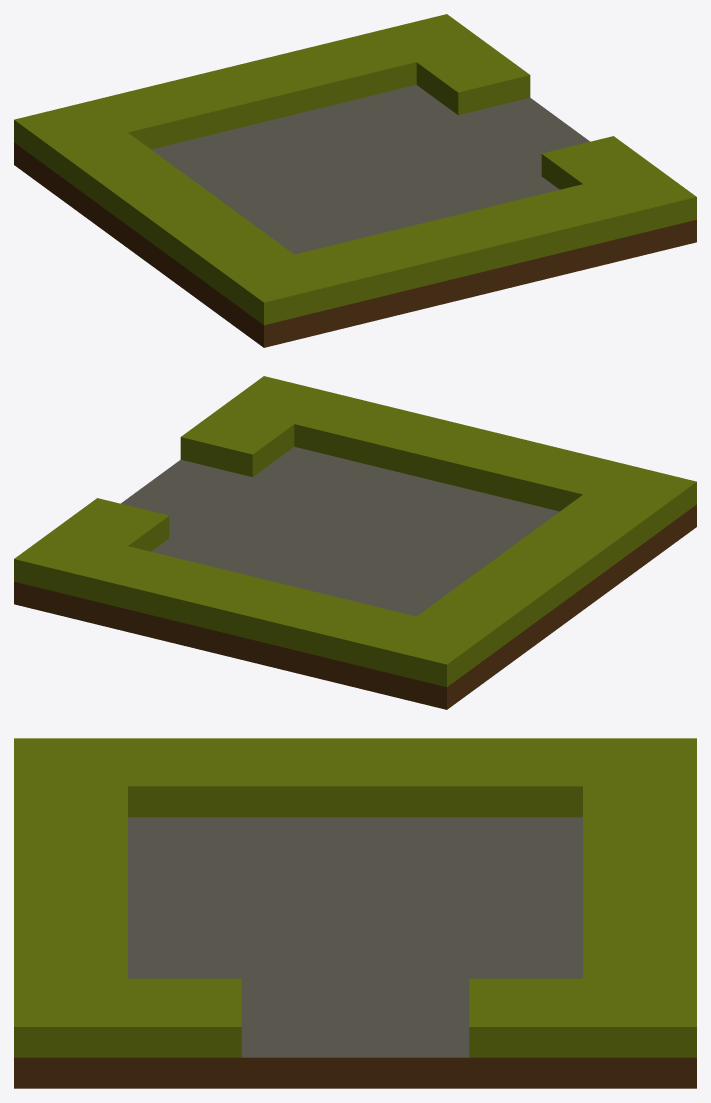
Rendered from CityStart.fbx.
3 views of the same model, one above another, from view 1: azimuth 30°, elevation 25°; view 2: azimuth 150°, elevation 25°; view 3: azimuth 270°, elevation 25° (orthographic). The views are drawn at different scales.
Visible parts, largest first — view 1: CityStart; view 2: CityStart; view 3: CityStart.
Boxes of the visible parts, <box> form: CityStart: <box>14,14,696,347</box>; CityStart: <box>14,376,696,709</box>; CityStart: <box>14,738,696,1088</box>.
Size of the model in its own units: 1 by 0.1 by 1.
